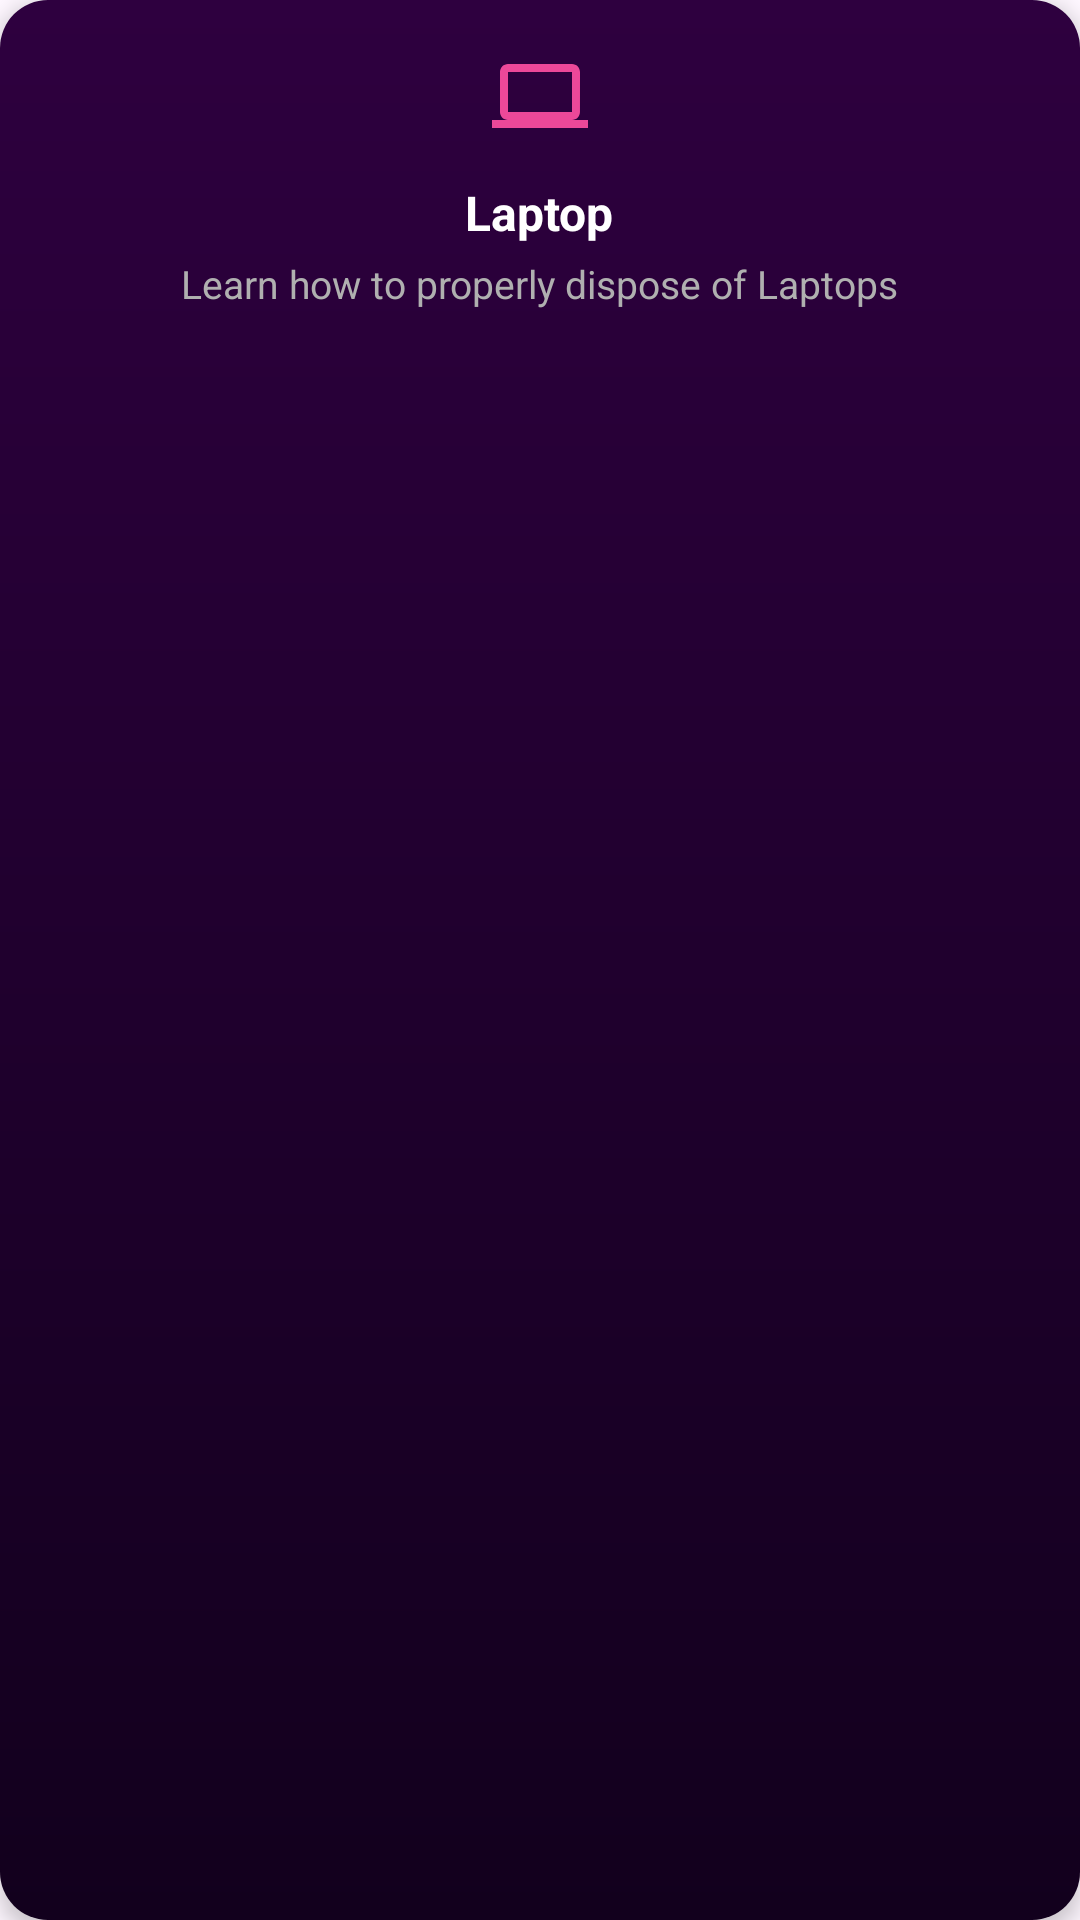

Icons on this 1080×1920 Android screen, each with the point to tap as [x,y]:
computer: [540,96]
